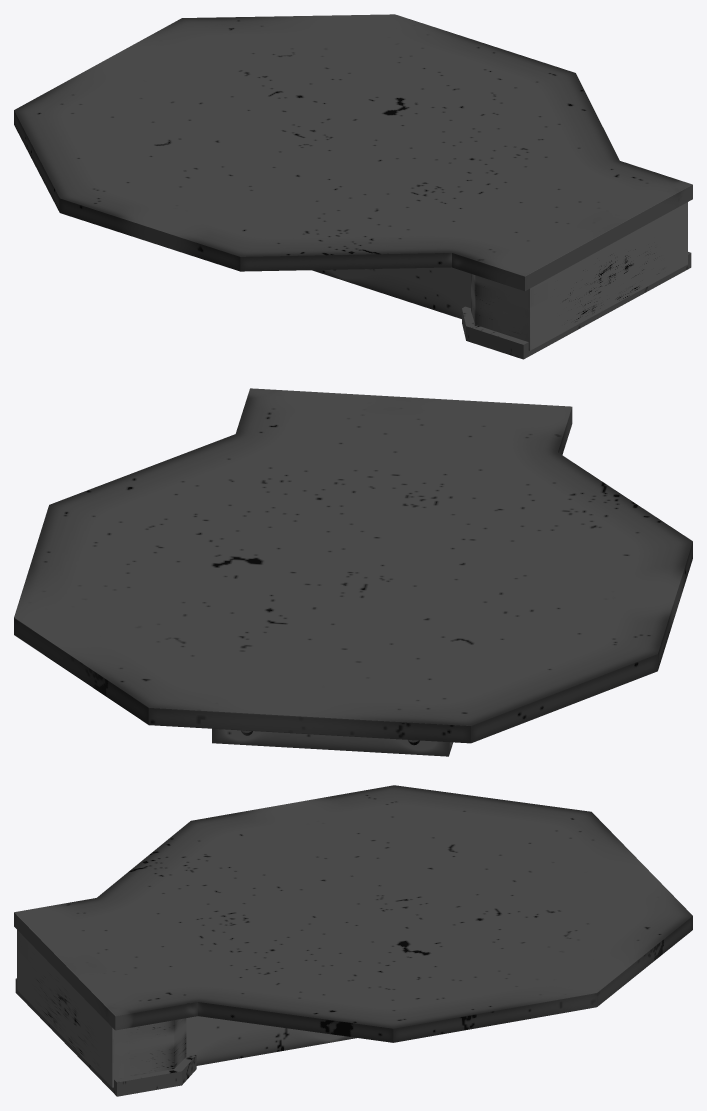
Rendered from Platform_7x3_Cap_Octagonal_V1.fbx.
The picture shows the model from 3 angles, top to bottom: view 1: azimuth 30°, elevation 25°; view 2: azimuth 150°, elevation 25°; view 3: azimuth 270°, elevation 25°; orthographic projection. The views are drawn at different scales.
Parts seen in each view (by area): view 1: Platform 7x3 Cap Octagonal V1; view 2: Platform 7x3 Cap Octagonal V1; view 3: Platform 7x3 Cap Octagonal V1.
Boxes of the visible parts, box(x1,y1,x2,y2) form: Platform 7x3 Cap Octagonal V1: box(14, 14, 692, 359); Platform 7x3 Cap Octagonal V1: box(14, 388, 692, 756); Platform 7x3 Cap Octagonal V1: box(14, 785, 692, 1096).
Bounding box in the file's own units: 646 × 99.92 × 761.
